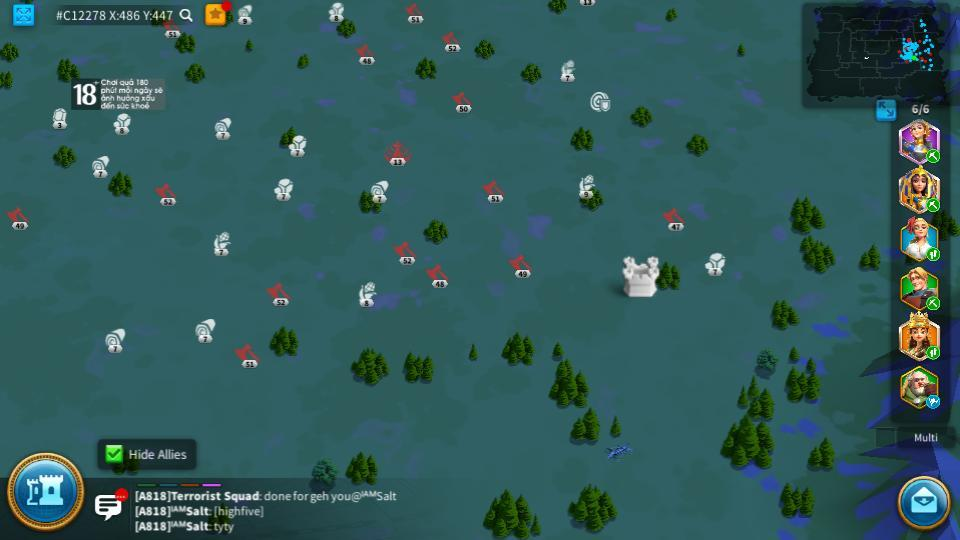gem-z-out: (51, 107, 68, 126)
march_farming: (923, 197, 940, 212), (925, 149, 941, 162)
march_idle: (925, 394, 941, 408)
march_marching: (925, 297, 942, 310), (925, 347, 942, 359)
